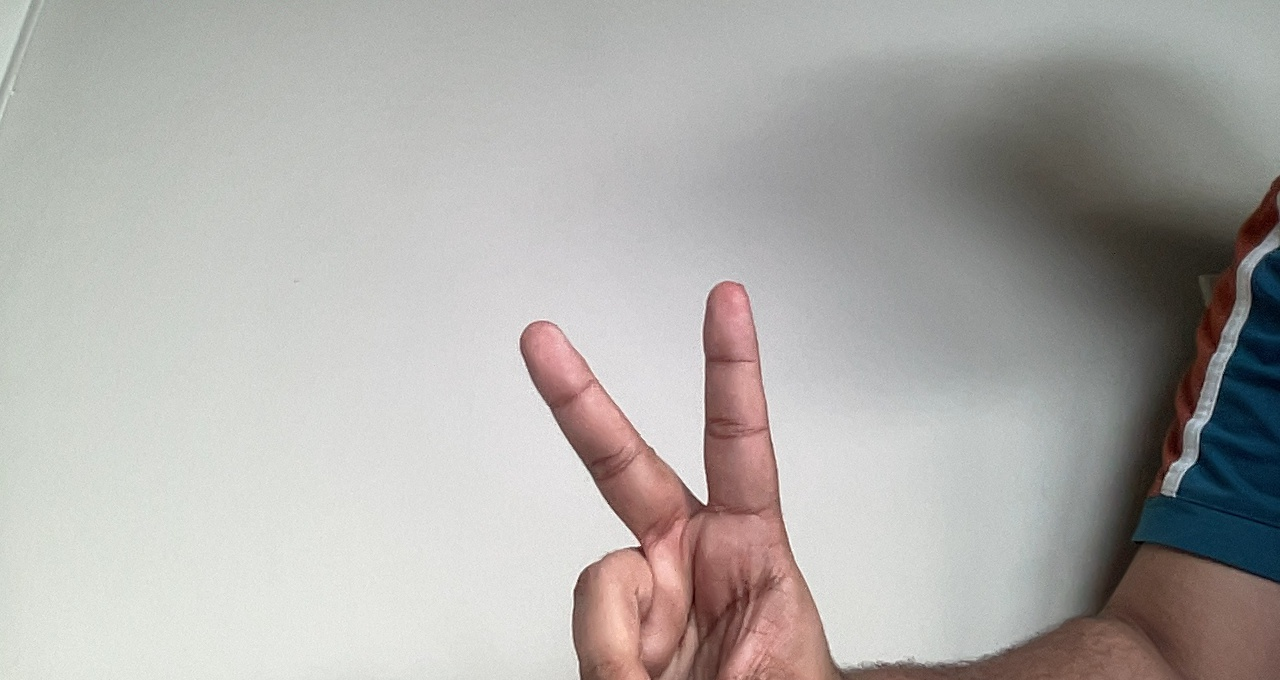ok: (508, 276, 839, 673)
